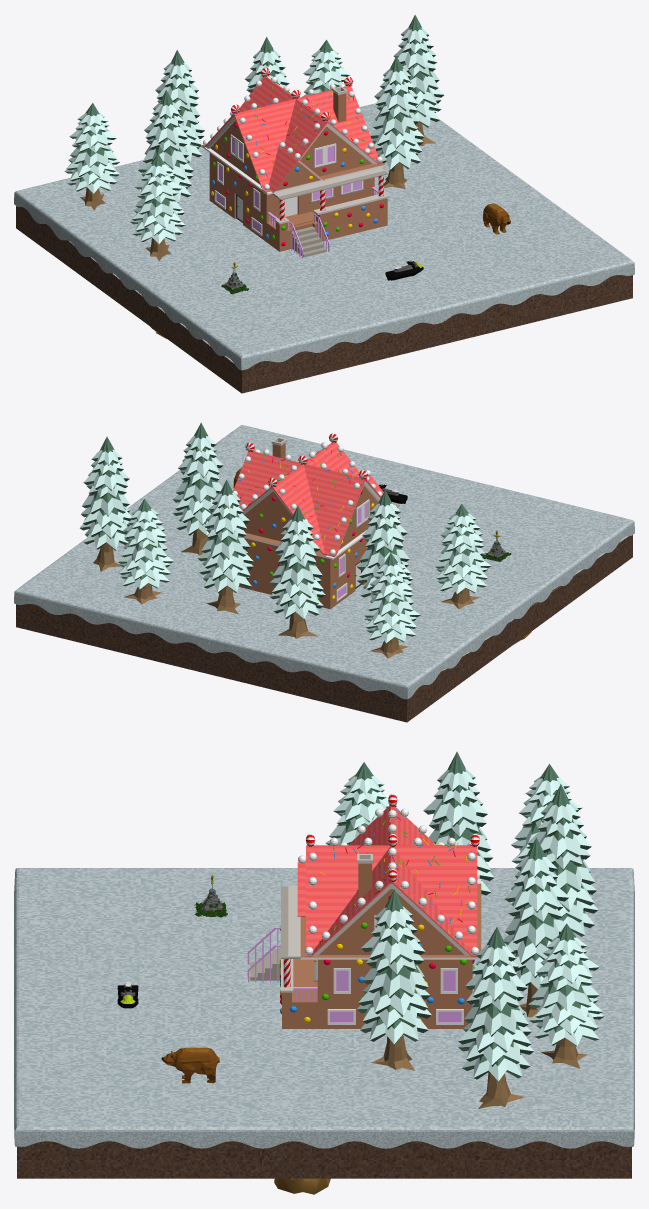
3 views of the same model, one above another, from view 1: azimuth 30°, elevation 25°; view 2: azimuth 150°, elevation 25°; view 3: azimuth 270°, elevation 25° (orthographic). The views are drawn at different scales.
Visible parts, largest first — view 1: Cube.003, Cube.1203, ANIMAL_OSO; view 2: Cube.003, Cube.1203; view 3: Cube.003, Cube.1203, ANIMAL_OSO, UNDERGROUND_T_REX_BONES, OBJRANDOM_SWORD_IN_THE_STONE.
Part boxes in pixels (x1,y1,x2,y2): Cube.003: [14, 15, 634, 393]; Cube.1203: [201, 67, 390, 258]; ANIMAL_OSO: [483, 203, 510, 234]; Cube.003: [14, 422, 634, 722]; Cube.1203: [233, 433, 402, 609]; Cube.003: [14, 751, 634, 1178]; Cube.1203: [247, 793, 481, 1028]; ANIMAL_OSO: [161, 1047, 219, 1083]; UNDERGROUND_T_REX_BONES: [274, 1178, 330, 1194]; OBJRANDOM_SWORD_IN_THE_STONE: [194, 874, 227, 917].
Size of the model in its own units: 4040 by 1805 by 4040.
Materials: 39 (4 with a texture image).
